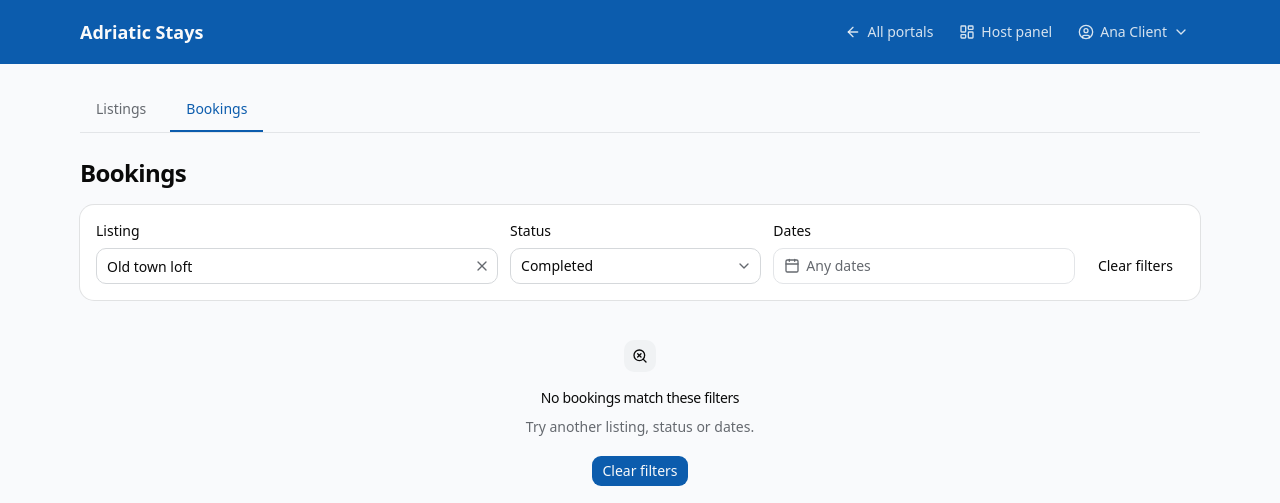
Scenario: HostBookingsPage › shows the URL's listing by its title and clears every filter
Expected: the text "No bookings match these filters" is shown, [541, 388, 739, 408]
Expected: the dropdown labelled "Listing" holds "Old town loft", [97, 250, 470, 282]
Click the 1st button "Clear filters": coordinates (1135, 266) [1087, 248, 1184, 284]
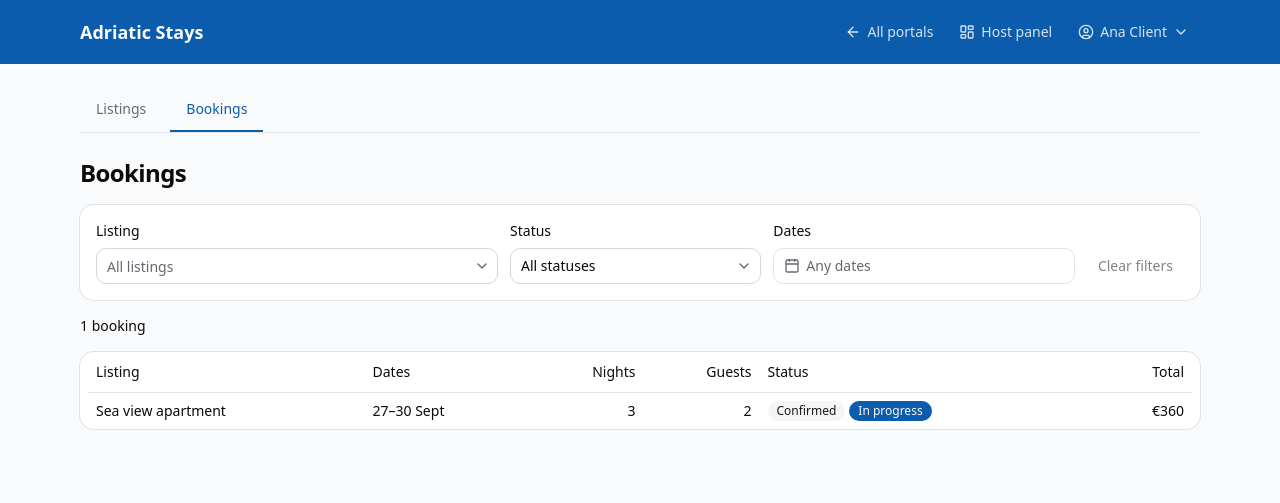
Now the text "1 booking" is shown, box [80, 316, 146, 335]
